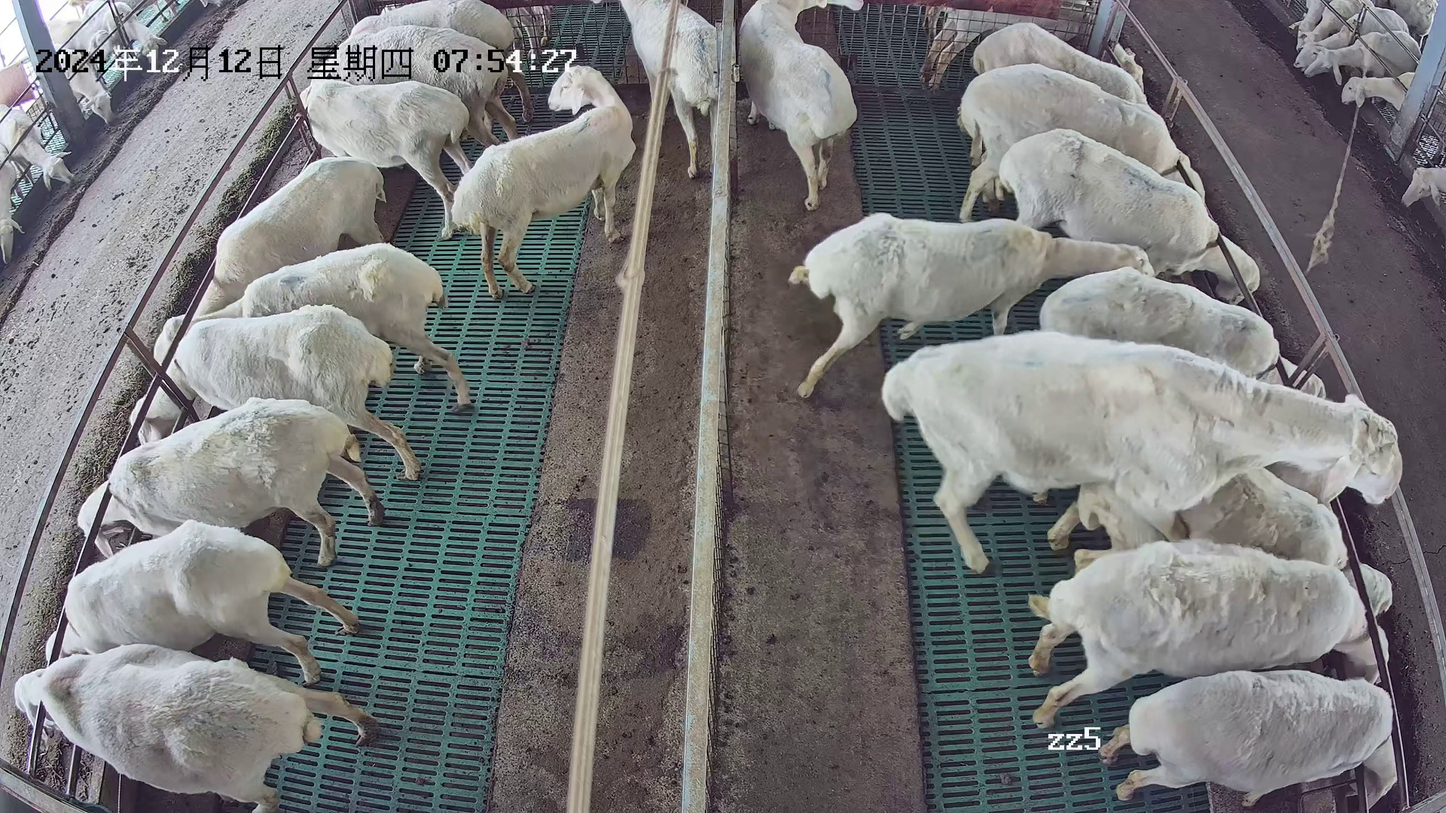Smounting: (879, 329, 1404, 618)
mounted: (1044, 463, 1395, 615)
